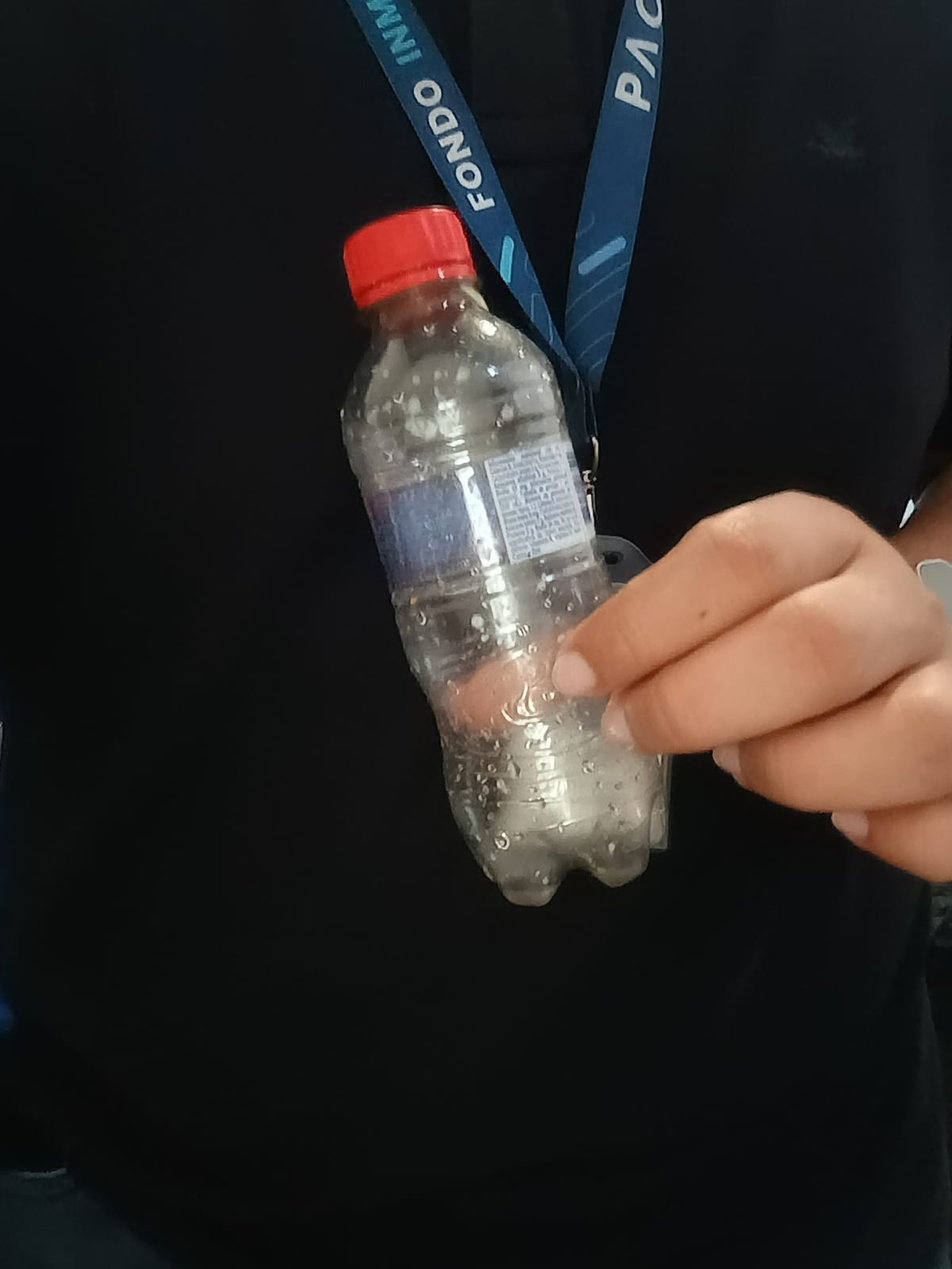Plastico: (342, 209, 671, 903)
